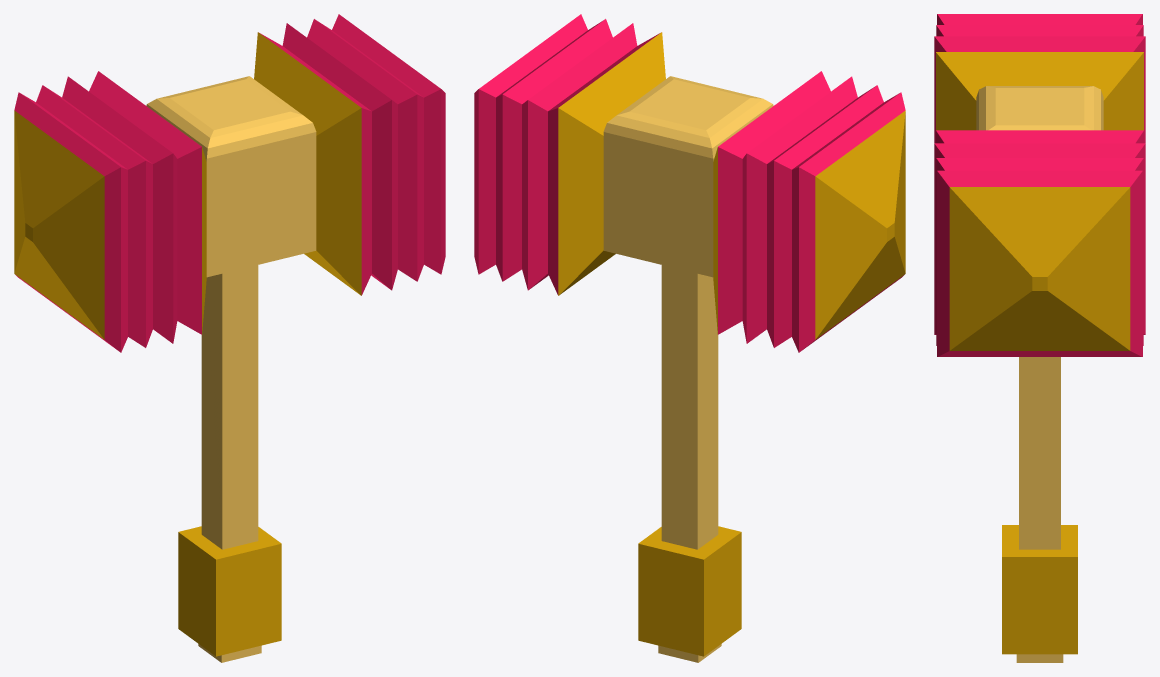
Rendered from Hammer.fbx.
3 views of the same model, side by side, from view 1: azimuth 30°, elevation 25°; view 2: azimuth 150°, elevation 25°; view 3: azimuth 270°, elevation 25° (orthographic).
Parts seen in each view (by area): view 1: hammer; view 2: hammer; view 3: hammer.
Part boxes in pixels (left/top/right/bottom): hammer: left=14, top=14, right=445, bottom=662; hammer: left=474, top=14, right=905, bottom=662; hammer: left=934, top=14, right=1145, bottom=662.
Bounding box in the file's own units: 316 × 422 × 143.
